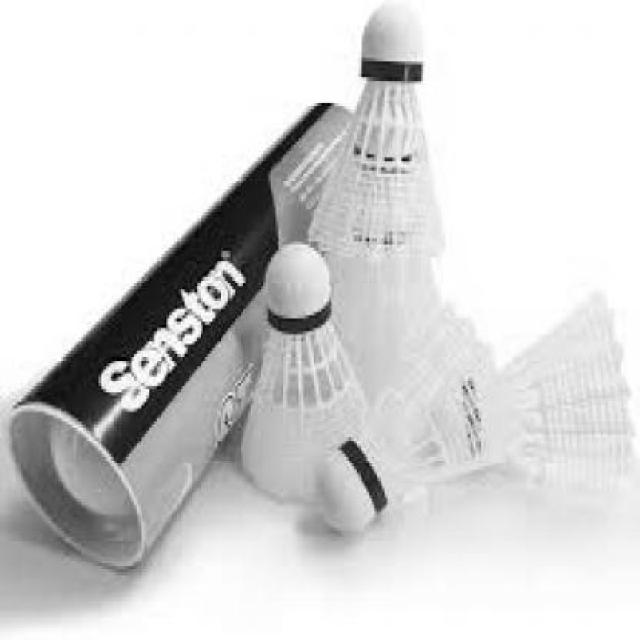Shuttlecock: (323, 305, 517, 546)
